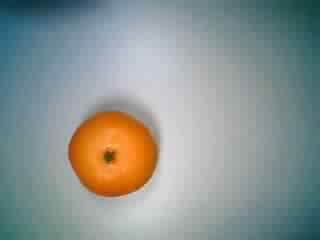orange: (61, 106, 162, 201)
